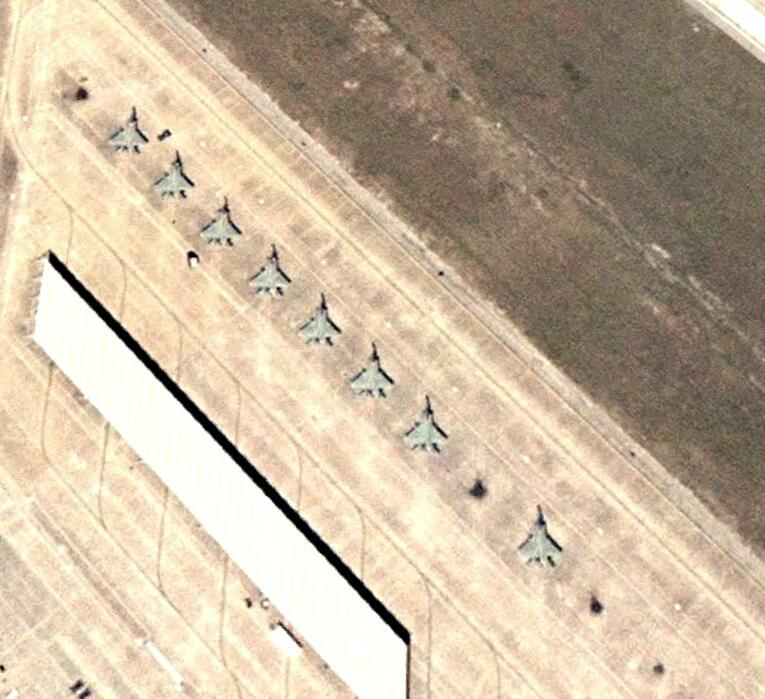A15: (516, 505, 566, 568), (405, 395, 453, 457), (350, 345, 396, 400), (298, 296, 345, 348), (251, 246, 295, 300), (109, 107, 153, 160), (201, 199, 244, 249), (154, 154, 197, 202)
